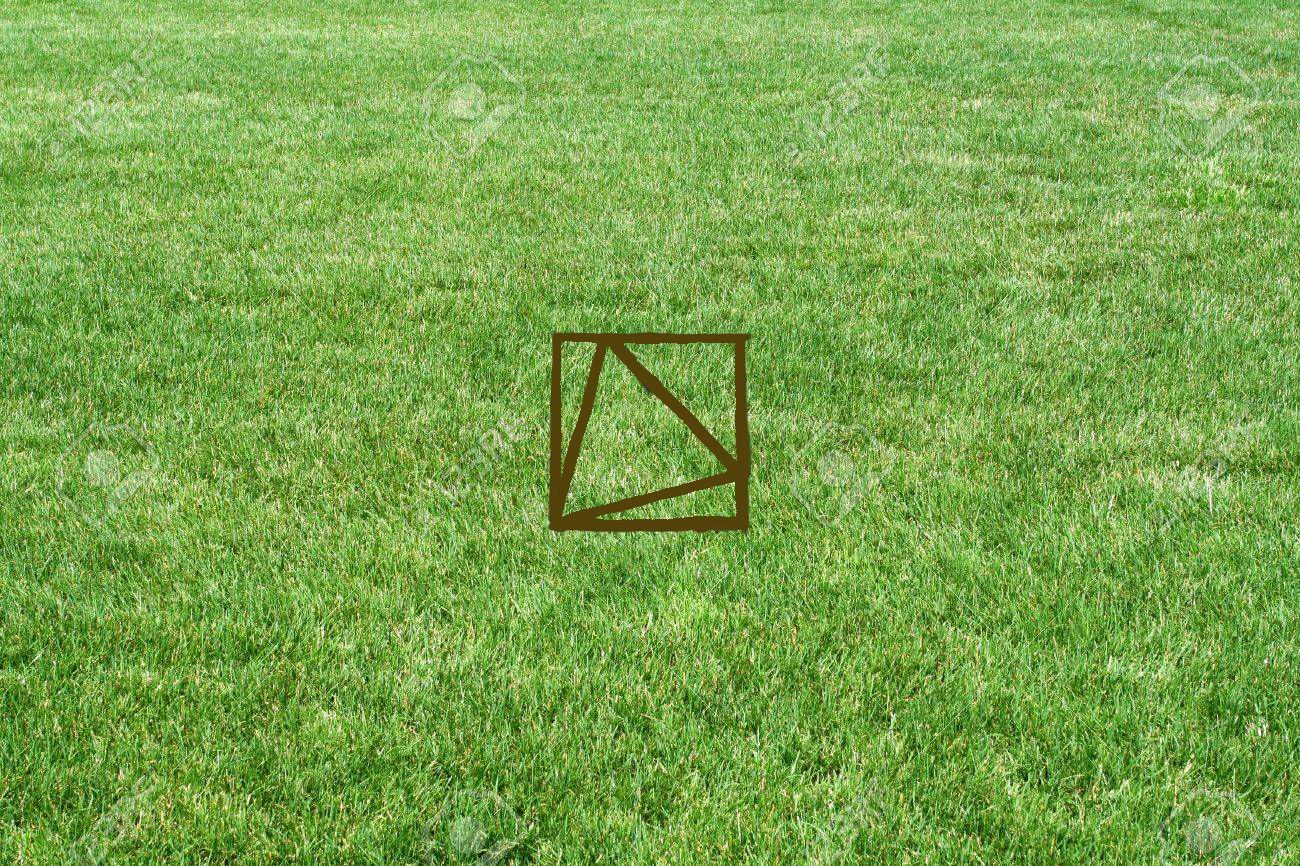marker: (546, 330, 753, 537)
